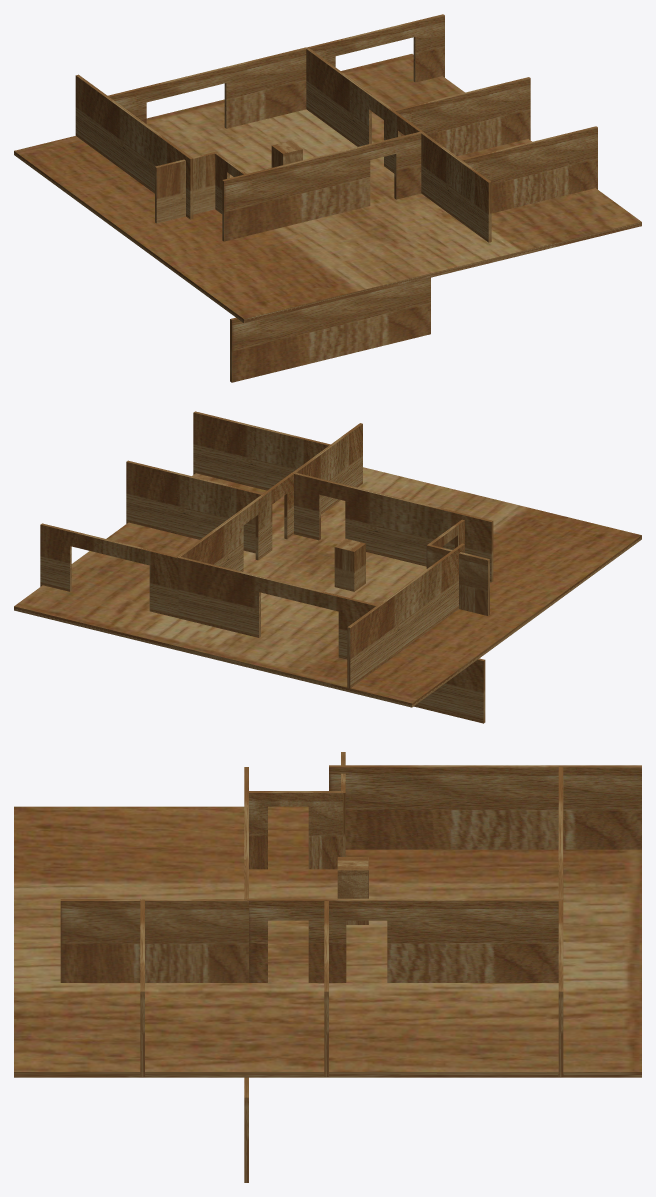
The model's file is medium.obj.
3 renders of one model, top to bottom at view 1: azimuth 30°, elevation 25°; view 2: azimuth 150°, elevation 25°; view 3: azimuth 270°, elevation 25°, orthographic. The views are drawn at different scales.
Visible parts, largest first — view 1: floor, wall_template, wall0, wall4, wall6, wall9, wall3, wall5, wall7, wall8, wall2, wall1 (+1 smaller); view 2: floor, wall0, wall4, wall3, wall9, wall6, wall8, wall5, wall7, wall_template, wall2, player (+1 smaller); view 3: floor, wall3, wall5, wall7, wall1, player, wall8, wall6, wall9, wall4, wall0.
Boxes of the visible parts, x1,y1,x2,y2 form: floor: [14, 54, 641, 322]; wall_template: [230, 277, 430, 382]; wall0: [222, 132, 422, 241]; wall4: [107, 47, 306, 128]; wall6: [460, 126, 597, 213]; wall9: [394, 77, 530, 156]; wall3: [75, 74, 193, 219]; wall5: [305, 47, 423, 173]; wall7: [421, 132, 491, 242]; wall8: [307, 14, 444, 82]; wall2: [155, 151, 217, 223]; wall1: [215, 152, 246, 213]; floor: [14, 467, 641, 707]; wall0: [293, 472, 493, 582]; wall4: [178, 557, 377, 659]; wall3: [347, 543, 464, 688]; wall9: [126, 460, 262, 553]; wall6: [193, 411, 332, 490]; wall8: [40, 523, 178, 618]; wall5: [177, 473, 294, 571]; wall7: [292, 423, 362, 514]; wall_template: [414, 658, 485, 723]; wall2: [426, 544, 489, 615]; player: [334, 538, 365, 591]; floor: [14, 806, 641, 1077]; wall3: [329, 765, 641, 849]; wall5: [247, 898, 561, 982]; wall7: [60, 899, 248, 982]; wall1: [249, 791, 342, 869]; player: [337, 857, 368, 924]; wall8: [558, 900, 563, 1076]; wall6: [140, 899, 144, 1076]; wall9: [324, 901, 328, 1076]; wall4: [558, 766, 563, 899]; wall0: [244, 767, 248, 900].
Bounding box in the file's own units: 20.12 × 9.77 × 20.
